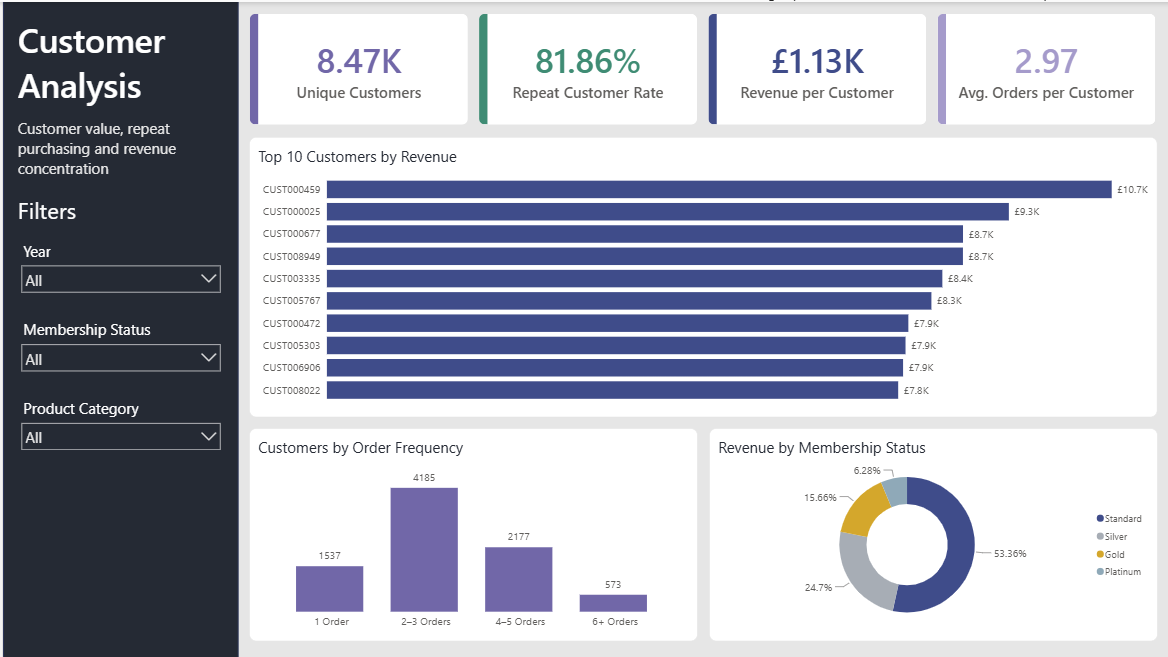

Layout of this report page (visuals, bound fields, positions):
{"tool":"powerbi","page":{"name":"Customer Analysis","canvas":[1664,936],"ordinal":2},"visuals":[{"type":"cardVisual","fields":{"Data":["Measures (3).Unique Customers","Measures (3).Repeat Customer Rate","Measures (3).Revenue per Customer","Measures (3).Average Orders per Customer"]},"box":[336,0,1328,192],"z":0},{"type":"shape","box":[0,-8,336,944],"z":1000},{"type":"textbox","box":[16,16,304,144],"z":2000},{"type":"clusteredBarChart","title":"Top 10 Customers by Revenue","fields":{"Category":["fact_orders.customer_id"],"Y":["Measures (3).Realised Revenue"]},"box":[352,192,1296,400],"z":3000},{"type":"textbox","box":[16,160,304,112],"z":4000},{"type":"clusteredColumnChart","title":"Customers by Order Frequency","fields":{"Category":["Purchase Frequency.Frequency Band"],"Y":["Measures (3).Customers by Purchase Frequency"]},"box":[352,608,640,304],"z":5000},{"type":"donutChart","title":"Revenue by Membership Status","fields":{"Y":["Measures (3).Realised Revenue"],"Category":["fact_orders.membership_status"]},"box":[1008,608,640,304],"z":6000},{"type":"slicer","title":"Filters","fields":{"Values":["dim_date.year"]},"box":[16,336,304,96],"z":7000},{"type":"slicer","title":"Filters","fields":{"Values":["fact_orders.membership_status"]},"box":[16,448,304,96],"z":8000},{"type":"slicer","title":"Filters","fields":{"Values":["fact_orders.product_category"]},"box":[16,560,304,96],"z":9000},{"type":"textbox","box":[16,272,128,80],"z":10000}]}

Visuals, with their boxes in screenshot pixels (x1, y1, x2, y2), scaled from the page's 1664x936 canvas onto the 1168x657 screenshot:
cardVisual - Measures (3).Unique Customers x Measures (3).Repeat Customer Rate: bbox=[236, 0, 1167, 135]
shape: bbox=[0, 0, 236, 656]
textbox: bbox=[11, 11, 225, 112]
"Top 10 Customers by Revenue" clusteredBarChart: bbox=[247, 135, 1157, 416]
textbox: bbox=[11, 112, 225, 191]
"Customers by Order Frequency" clusteredColumnChart: bbox=[247, 427, 696, 640]
"Revenue by Membership Status" donutChart: bbox=[708, 427, 1157, 640]
"Filters" slicer: bbox=[11, 236, 225, 303]
"Filters" slicer: bbox=[11, 314, 225, 382]
"Filters" slicer: bbox=[11, 393, 225, 460]
textbox: bbox=[11, 191, 101, 247]
